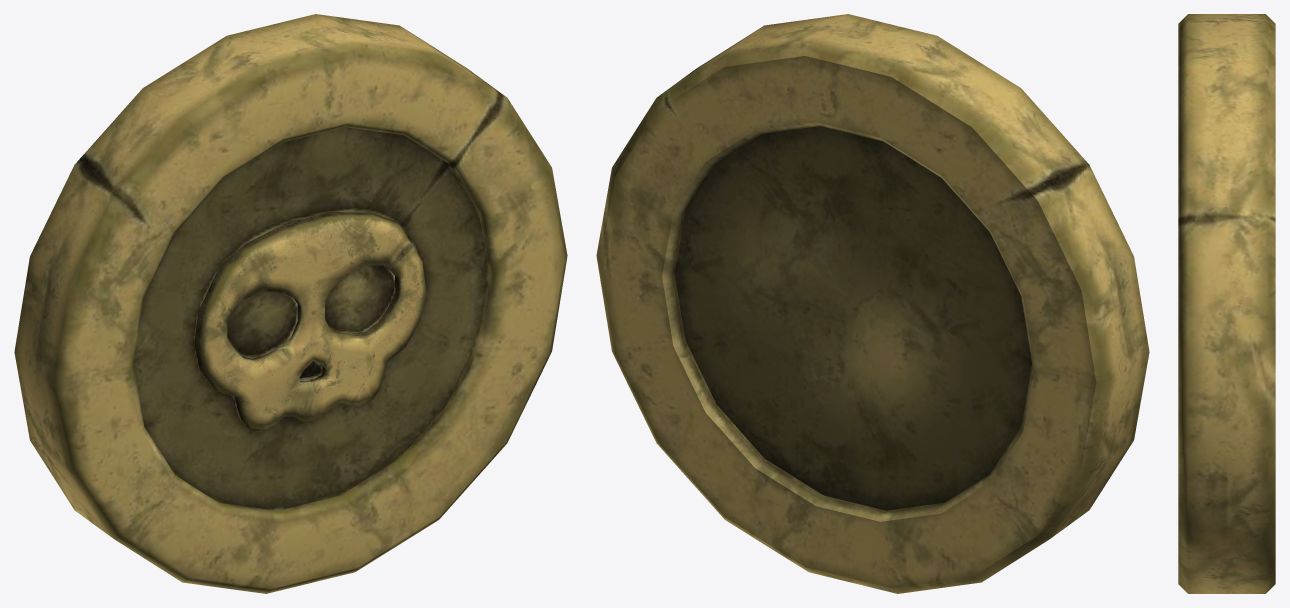
The model's file is pirate-coin.glb.
3 views of the same model, side by side, from view 1: azimuth 30°, elevation 25°; view 2: azimuth 150°, elevation 25°; view 3: azimuth 270°, elevation 25° (orthographic).
Visible parts, largest first — view 1: model; view 2: model; view 3: model.
Part boxes in pixels (left/top/right/bottom): model: left=14, top=14, right=567, bottom=593; model: left=596, top=14, right=1149, bottom=593; model: left=1178, top=14, right=1275, bottom=593.
Size of the model in its own units: 183 by 180 by 30.52.
Materials: 1 (1 with a texture image).
